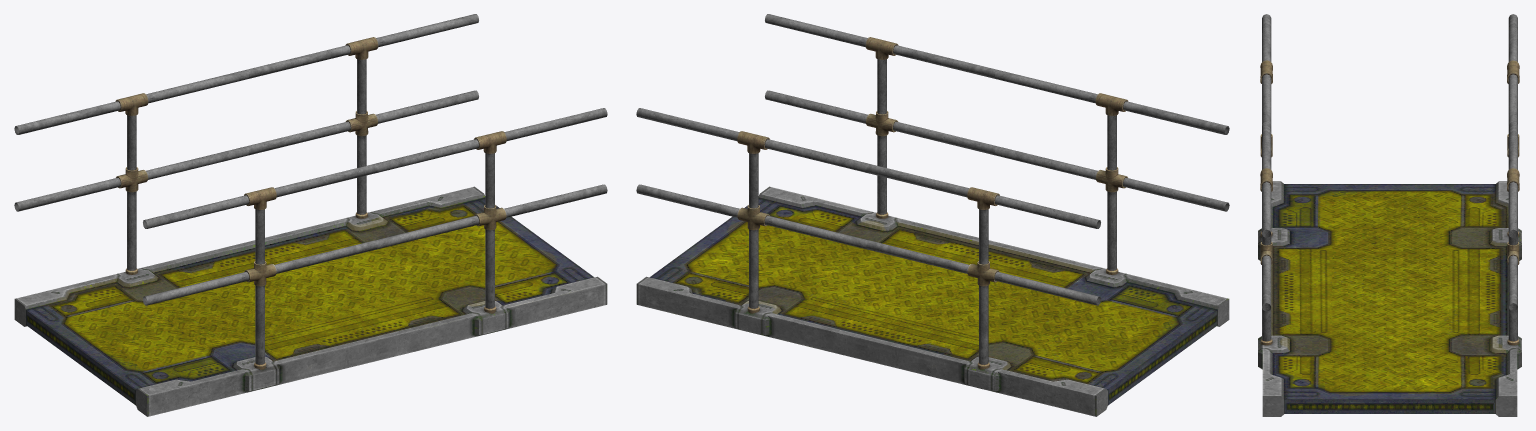
Rendered from catwalk_straight.dae.
3 renders of one model, left to right at view 1: azimuth 30°, elevation 25°; view 2: azimuth 150°, elevation 25°; view 3: azimuth 270°, elevation 25°, orthographic. The views are drawn at different scales.
Parts seen in each view (by area): view 1: straight, railing; view 2: straight, railing; view 3: straight, railing.
Boxes of the visible parts, x1,y1,x2,y2 form: straight: [14, 186, 607, 416]; railing: [14, 14, 607, 369]; straight: [636, 186, 1229, 416]; railing: [636, 14, 1229, 369]; straight: [1258, 181, 1521, 416]; railing: [1260, 14, 1519, 345].
Bounding box in the file's own units: 4 × 1.63 × 2.07.
